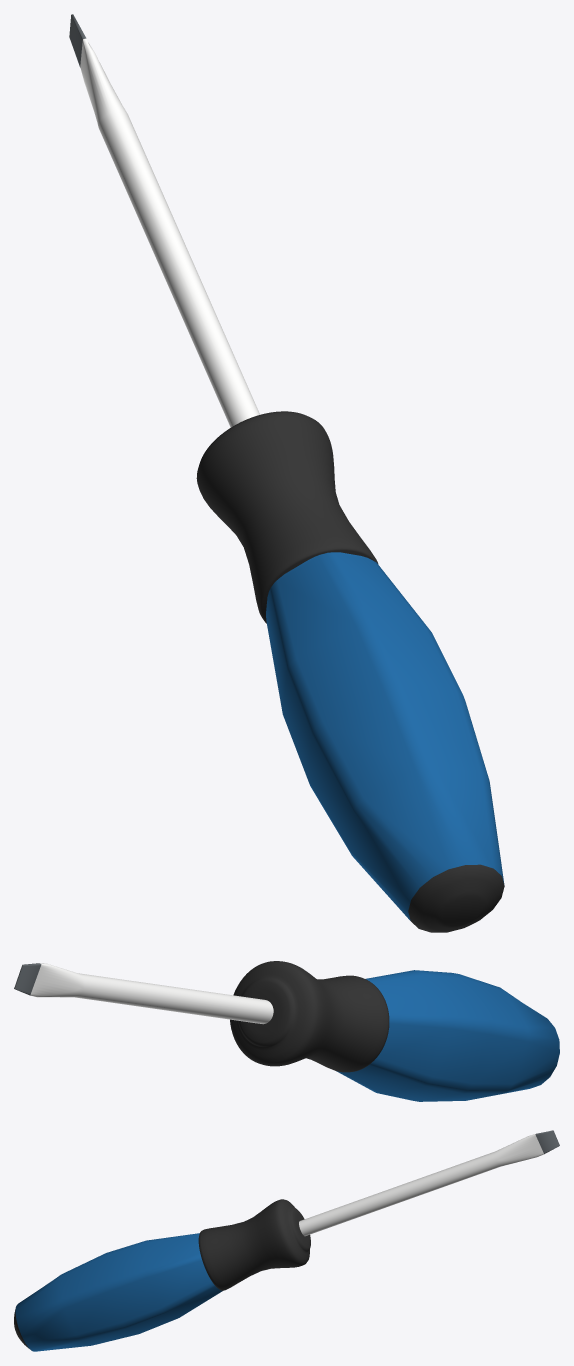
File: Screwdriver_Tool.fbx
The picture shows the model from 3 angles, top to bottom: view 1: azimuth 30°, elevation 25°; view 2: azimuth 150°, elevation 25°; view 3: azimuth 270°, elevation 25°; orthographic projection. The views are drawn at different scales.
Parts seen in each view (by area): view 1: Screwdriver Handle, Shank; view 2: Screwdriver Handle, Shank; view 3: Screwdriver Handle, Shank.
Boxes of the visible parts, bbox=[...] form: Screwdriver Handle: bbox=[196, 411, 504, 932]; Shank: bbox=[69, 14, 259, 427]; Screwdriver Handle: bbox=[230, 961, 559, 1101]; Shank: bbox=[14, 963, 273, 1024]; Screwdriver Handle: bbox=[14, 1199, 310, 1351]; Shank: bbox=[299, 1130, 559, 1236].
Bounding box in the file's own units: 0.5721 × 1.39 × 2.72.
